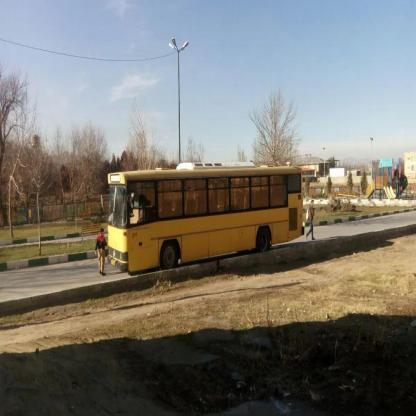Bus: (105, 166, 308, 275)
